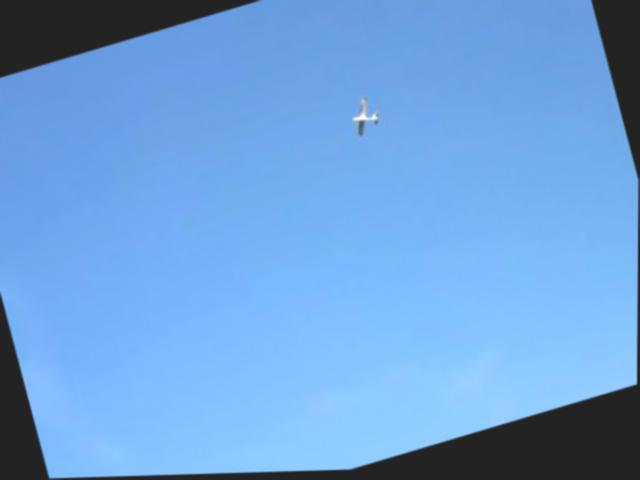uav: (344, 93, 387, 146)
